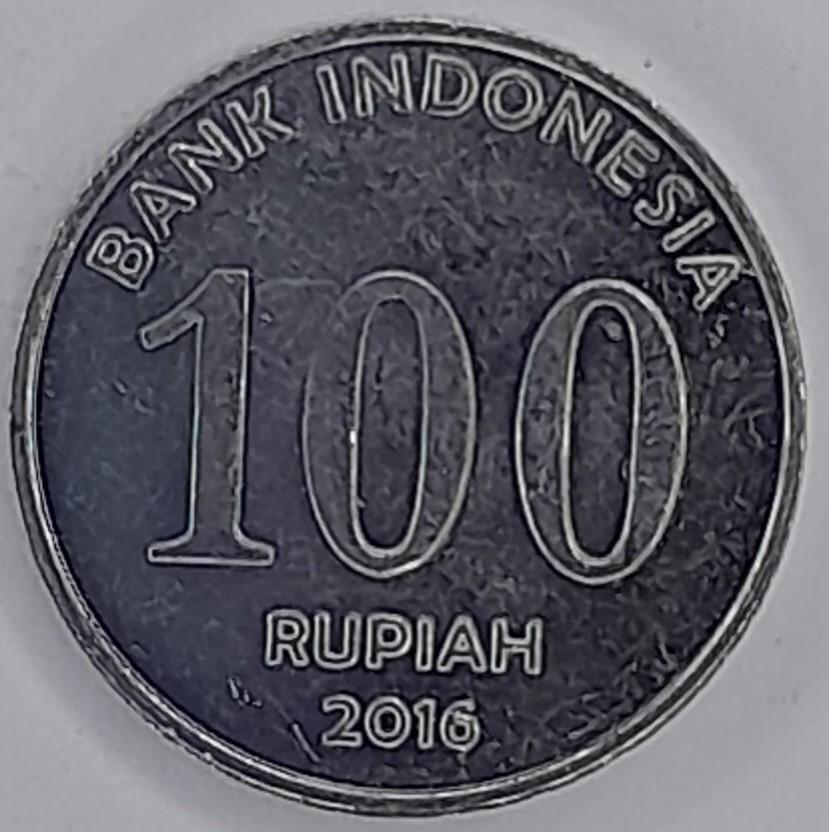coin_100_e2016: (3, 10, 812, 818)
